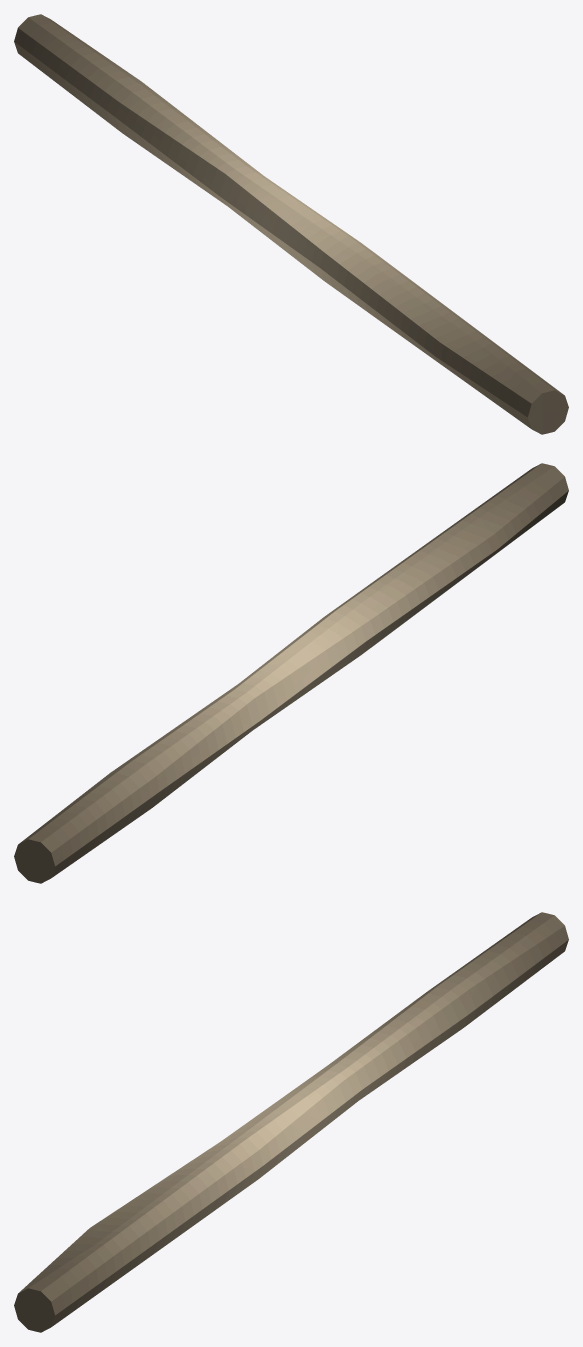
The model's file is Palo de pilares.fbx.
3 views of the same model, one above another, from view 1: azimuth 30°, elevation 25°; view 2: azimuth 150°, elevation 25°; view 3: azimuth 330°, elevation 25° (orthographic).
Visible parts, largest first — view 1: pCylinder1; view 2: pCylinder1; view 3: pCylinder1.
Part boxes in pixels (box(x1,y1,x2,y2)): pCylinder1: box(14, 14, 568, 434); pCylinder1: box(14, 463, 568, 883); pCylinder1: box(14, 912, 568, 1332).
Size of the model in its own units: 1.18 by 0.9791 by 19.53.
